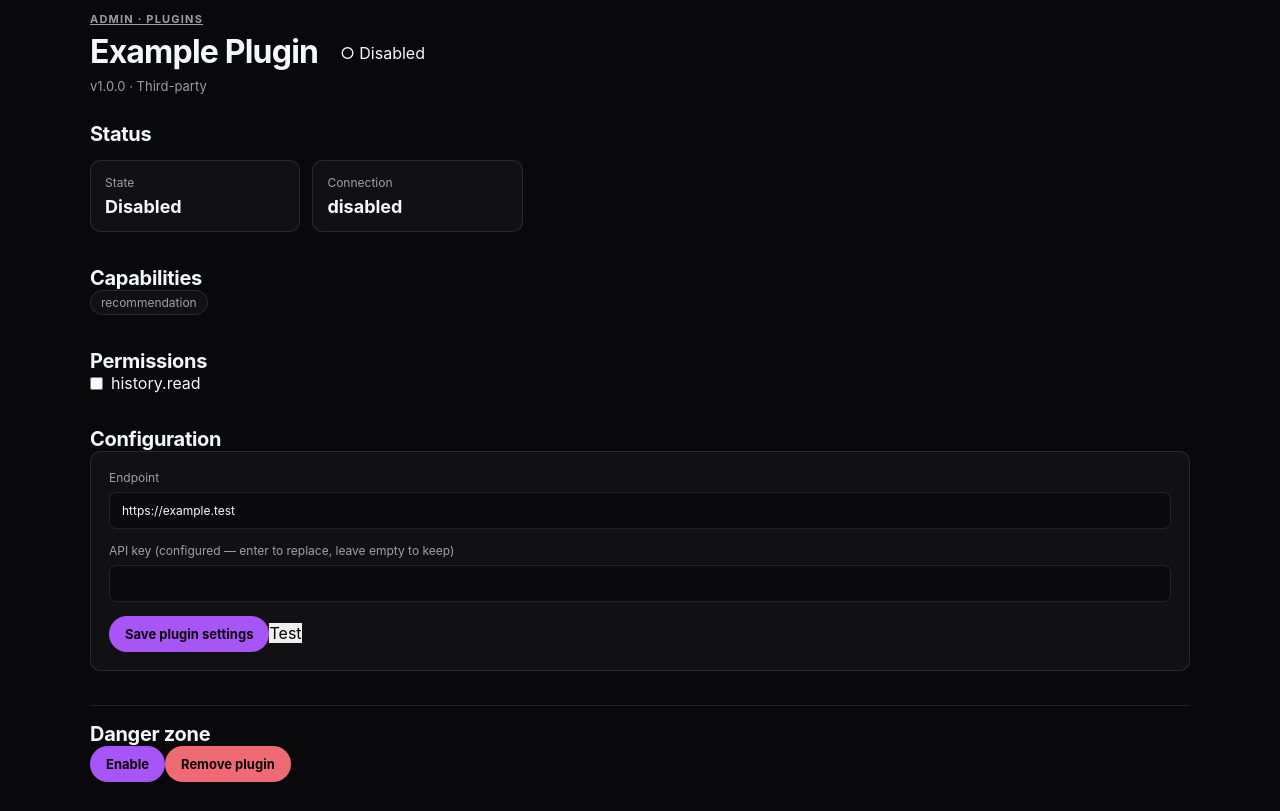
Plugin detail page › runs a connection test
The width and height of the screenshot is (1280, 811).
Expected: the heading "Example Plugin" is shown, x1=90 y1=32 x2=318 y2=71
Click the button "Test". click: [286, 633]
box: x1=270 y1=623 x2=302 y2=643
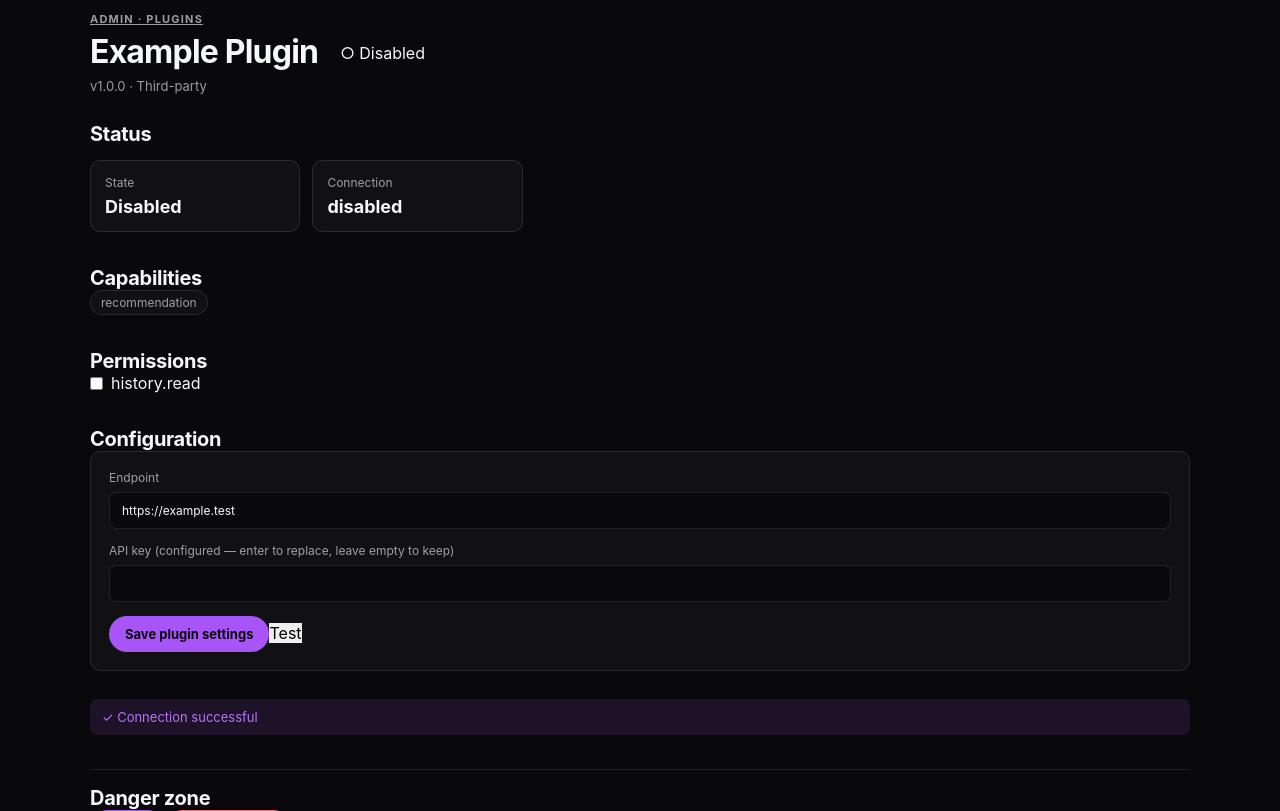
Expected: the message shows "Connection successful", x1=102 y1=709 x2=258 y2=725
